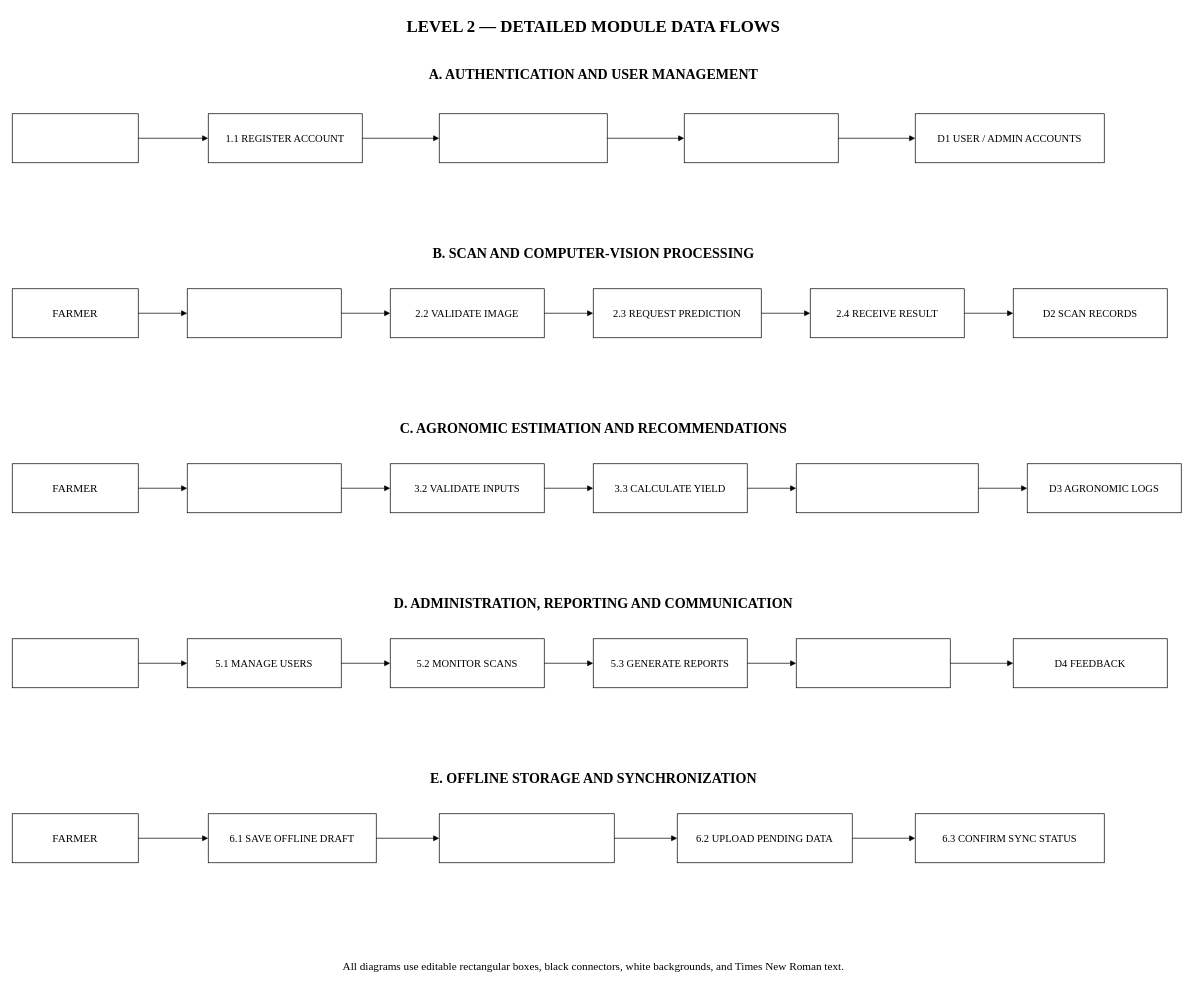
The diagram is 1194 pixels wide and 990 high, and some of its shapes have lost their labels. Each missing label, with the centre of its shape:
1.2 VALIDATE CREDENTIALS: (x=523, y=138)
1.3 CREATE SESSION: (x=761, y=138)
2.1 CAPTURE IMAGE: (x=264, y=313)
3.1 COLLECT INPUTS: (x=264, y=488)
3.4 GENERATE RECOMMENDATIONS: (x=887, y=488)
5.4 PUBLISH NEWS: (x=873, y=663)
D5 LOCAL OFFLINE QUEUE: (x=526, y=838)
FARMER / ADMIN: (x=75, y=138)
SYSTEM ADMIN: (x=75, y=663)
